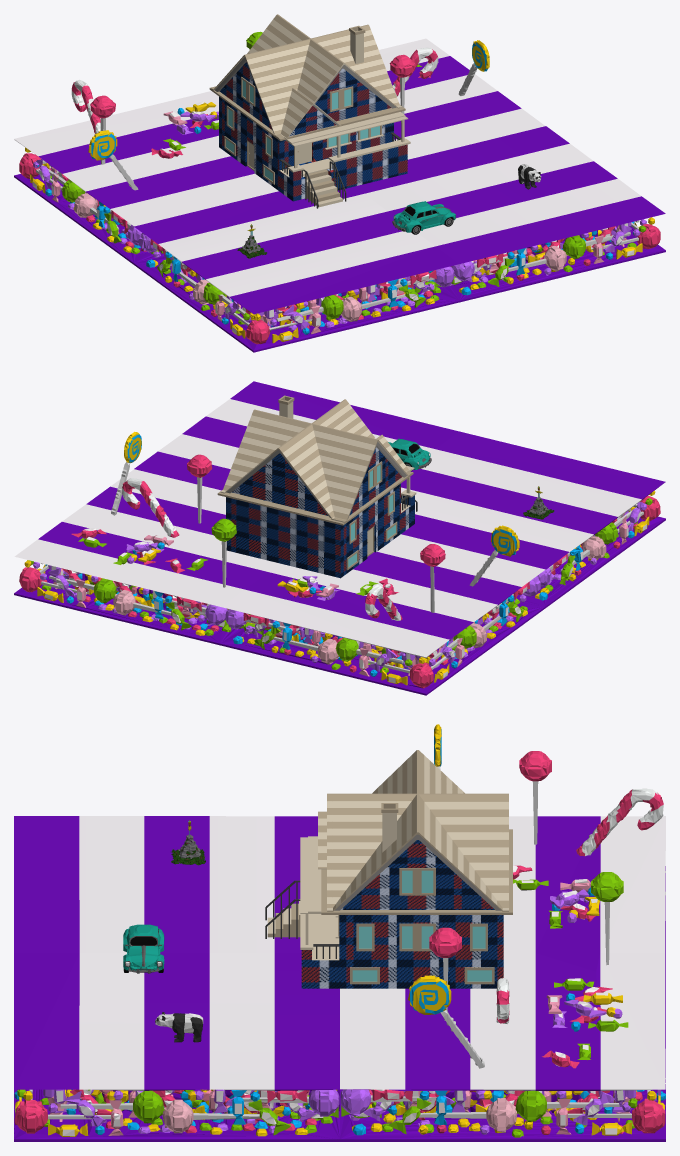
The picture shows the model from 3 angles, top to bottom: view 1: azimuth 30°, elevation 25°; view 2: azimuth 150°, elevation 25°; view 3: azimuth 270°, elevation 25°; orthographic projection. The views are drawn at different scales.
Parts seen in each view (by area): view 1: TERRAIN_CANDY, Cube.171, VEHICLES_VOLKSWAGEN; view 2: TERRAIN_CANDY, Cube.171, VEHICLES_VOLKSWAGEN; view 3: TERRAIN_CANDY, Cube.171, VEHICLES_VOLKSWAGEN, ANIMAL_PANDA, OBJRANDOM_SWORD_IN_THE_STONE.
Part boxes in pixels (x1,y1,x2,y2): TERRAIN_CANDY: (14, 31, 665, 352); Cube.171: (209, 14, 410, 208); VEHICLES_VOLKSWAGEN: (392, 201, 456, 234); TERRAIN_CANDY: (14, 381, 665, 695); Cube.171: (217, 395, 417, 578); VEHICLES_VOLKSWAGEN: (388, 438, 431, 471); TERRAIN_CANDY: (14, 724, 665, 1141); Cube.171: (265, 750, 512, 988); VEHICLES_VOLKSWAGEN: (123, 924, 164, 973); ANIMAL_PANDA: (155, 1012, 203, 1042); OBJRANDOM_SWORD_IN_THE_STONE: (171, 820, 205, 865).
Size of the model in its own units: 4059 by 1584 by 4000.
Materials: 28 (3 with a texture image).
